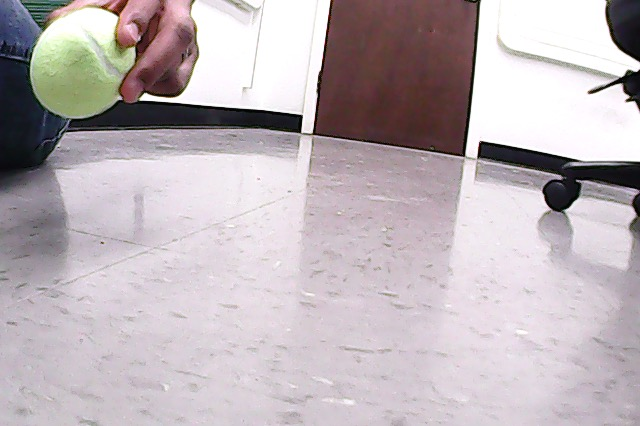ball: (32, 10, 137, 119)
